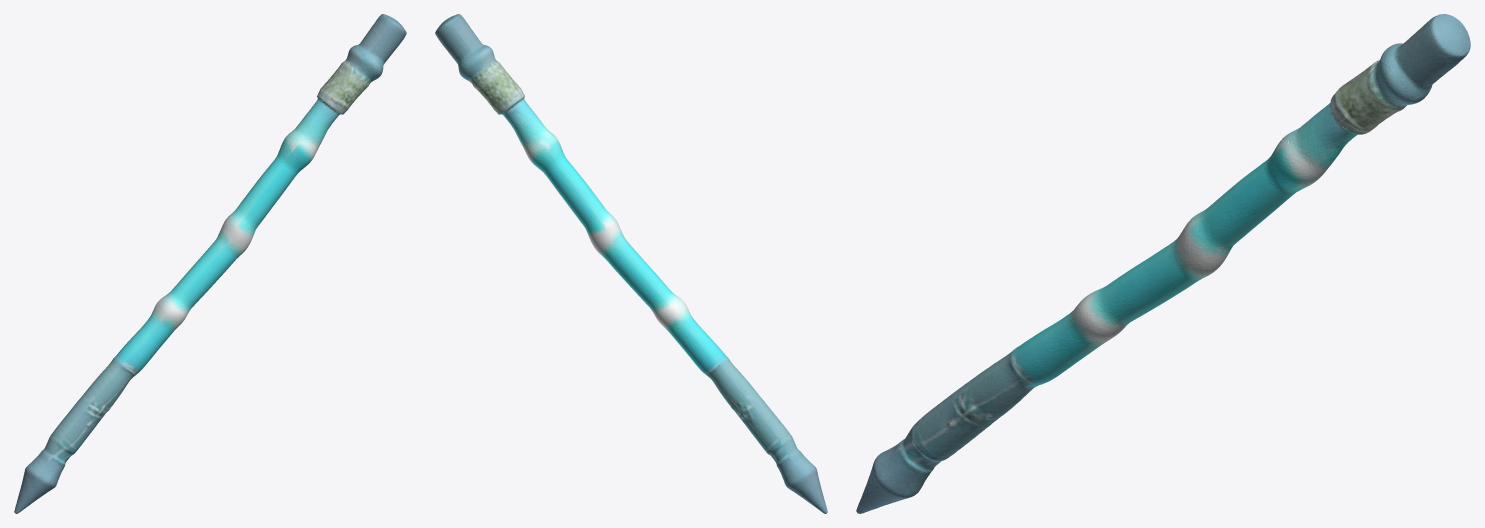
The model's file is nachia_weapon.glb.
3 views of the same model, side by side, from view 1: azimuth 30°, elevation 25°; view 2: azimuth 150°, elevation 25°; view 3: azimuth 330°, elevation 25° (orthographic). The views are drawn at different scales.
Visible parts, largest first — view 1: tmpfvm_ybt8.ply; view 2: tmpfvm_ybt8.ply; view 3: tmpfvm_ybt8.ply.
Boxes of the visible parts, x1,y1,x2,y2 form: tmpfvm_ybt8.ply: [14, 14, 406, 513]; tmpfvm_ybt8.ply: [435, 14, 827, 513]; tmpfvm_ybt8.ply: [856, 14, 1470, 513].
Size of the model in its own units: 1.99 by 1.99 by 0.1889.
1 material, 1 textured.
